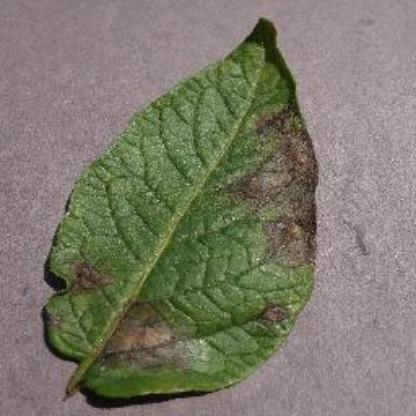Late-Blight: (31, 15, 324, 415)
